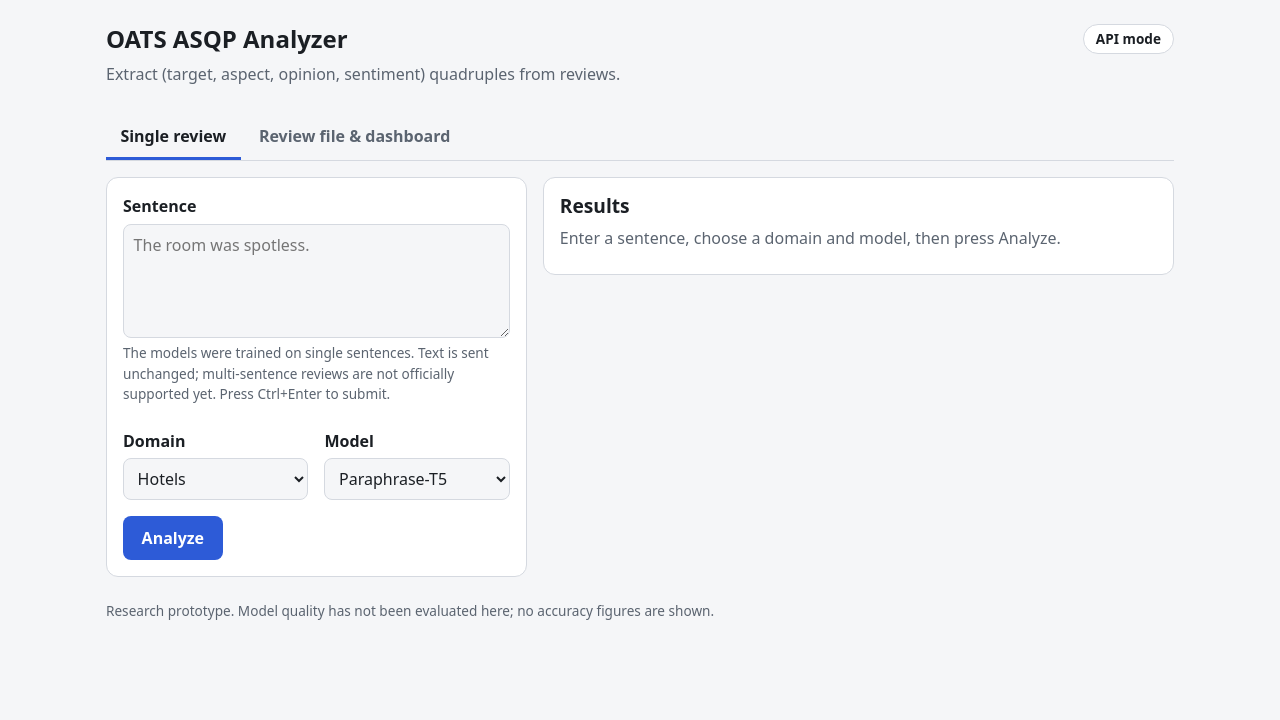
Scenario: App › renders multiple quadruples, with sentiment shown as text plus a symbol
Type "Clean room, rude staff." into the text box labelled "Sentence" at (316, 281), box x1=123 y1=224 x2=510 y2=338
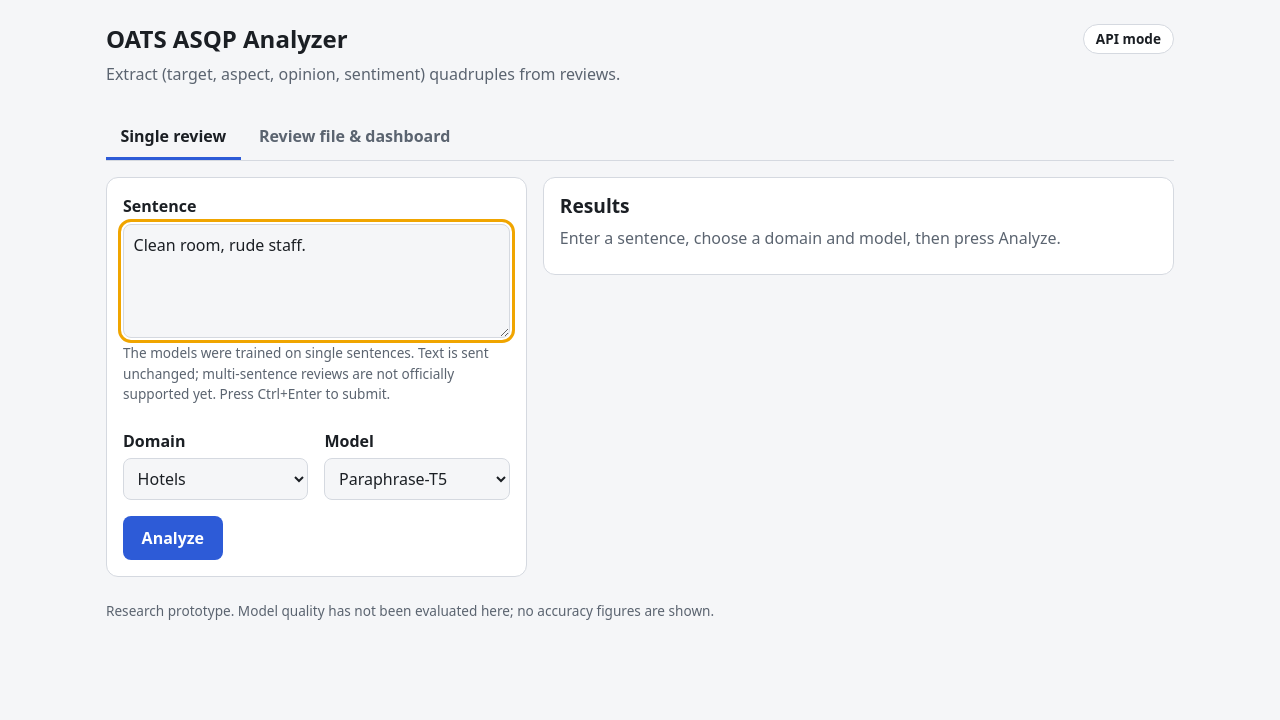
Click the button "Analyze" at (173, 538), box x1=123 y1=516 x2=223 y2=560
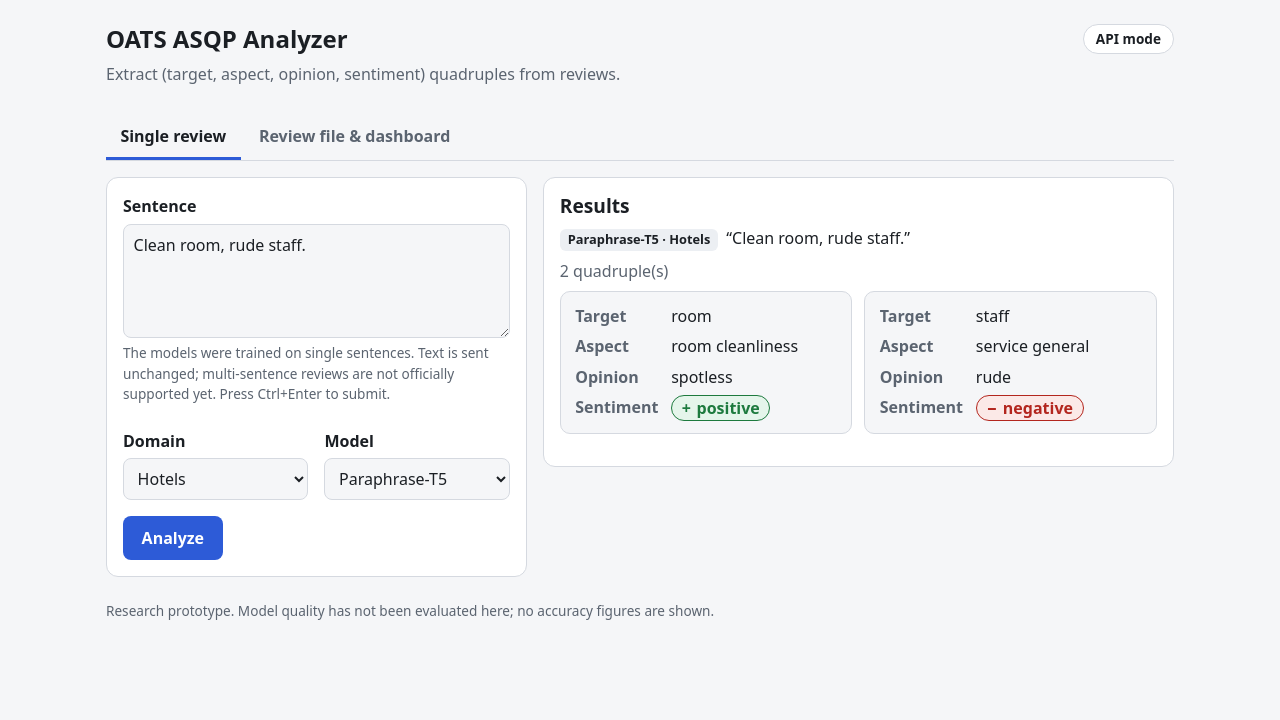
Now the number of list items is 2, box x1=560 y1=291 x2=852 y2=434; x1=864 y1=291 x2=1157 y2=434
Now the text with class "sentiment-symbol" reads "−", box x1=986 y1=397 x2=997 y2=419
